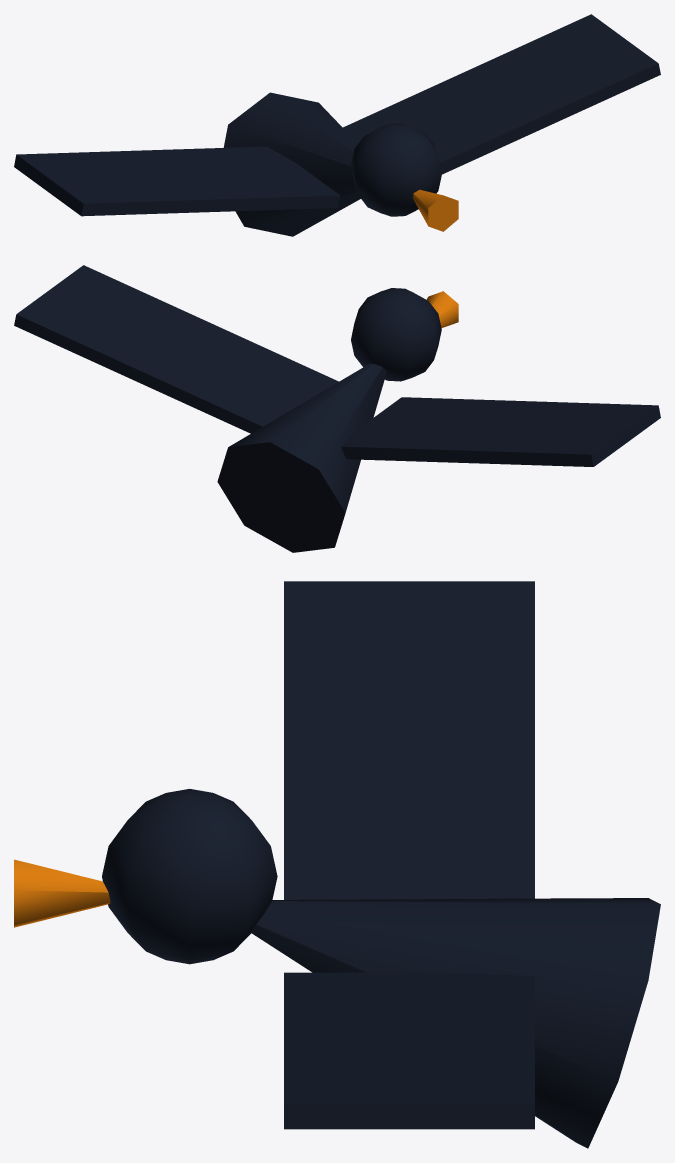
Rendered from pet_dark_raven.glb.
The picture shows the model from 3 angles, top to bottom: view 1: azimuth 30°, elevation 25°; view 2: azimuth 150°, elevation 25°; view 3: azimuth 270°, elevation 25°; orthographic projection. The views are drawn at different scales.
Visible parts, largest first — view 1: PET_DARK_RAVEN; view 2: PET_DARK_RAVEN; view 3: PET_DARK_RAVEN.
Part boxes in pixels (x1,y1,x2,y2): PET_DARK_RAVEN: (14,14,660,236); PET_DARK_RAVEN: (14,265,660,552); PET_DARK_RAVEN: (14,581,660,1148).
Size of the model in its own units: 1.99 by 0.6074 by 1.03.
